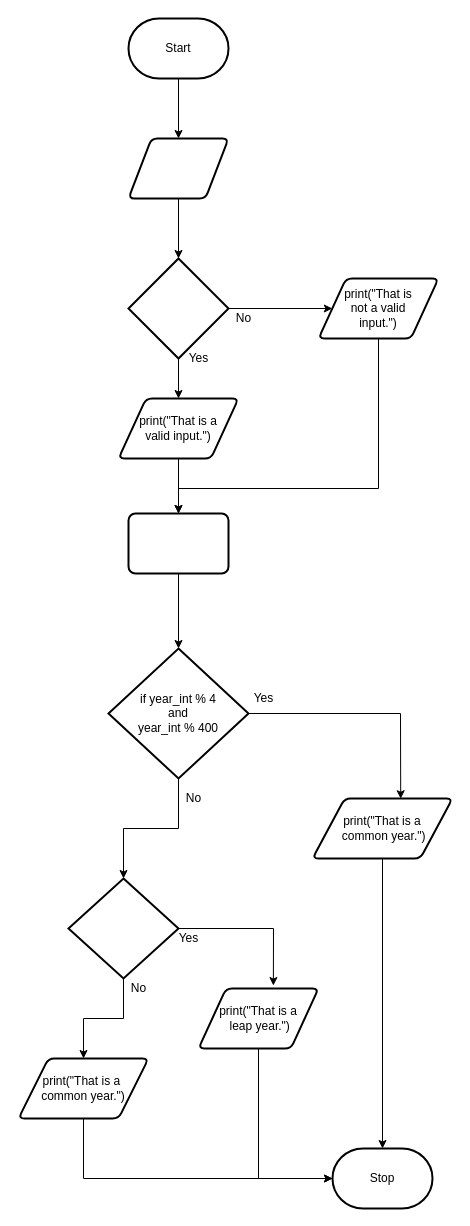
The diagram is 470 pixels wide and 1226 high, and some of its shapes have lost their labels. The box of each missing label's shape, as (x1, y1, x2, y2) in pixels:
convert string to int: (127, 512, 229, 574)
Get year: (127, 137, 229, 199)
if year_int % 100: (67, 877, 179, 979)
try: (127, 257, 229, 359)
